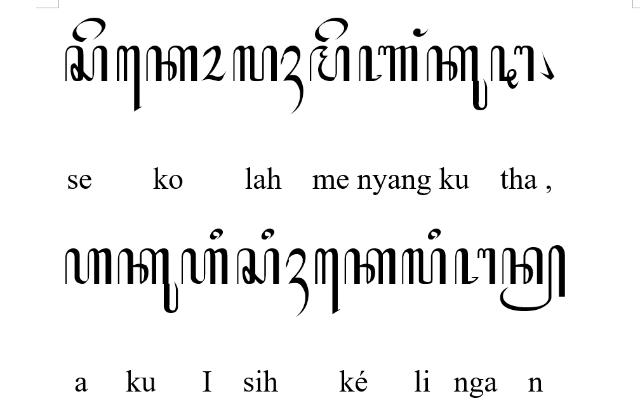-n: (500, 245, 566, 312)
_h1: (280, 44, 304, 114), (285, 248, 309, 318)
e: (70, 17, 106, 43), (314, 16, 350, 42)
e1: (314, 248, 340, 316), (116, 46, 142, 112)
h: (65, 248, 112, 286), (182, 248, 228, 286)
i: (261, 228, 275, 240), (427, 228, 441, 240), (210, 227, 222, 240)
k: (344, 248, 396, 286), (146, 46, 198, 83)
kom: (540, 50, 554, 80)
ku: (118, 248, 178, 314), (427, 46, 488, 110)
l: (232, 45, 278, 83), (402, 248, 446, 286)
m: (310, 46, 350, 83)
ng: (413, 27, 429, 37)
nga: (454, 248, 496, 286)
ny1: (357, 46, 419, 83)
o: (202, 44, 226, 82)
s: (64, 44, 108, 82), (237, 248, 280, 286)
th: (490, 44, 534, 90)
